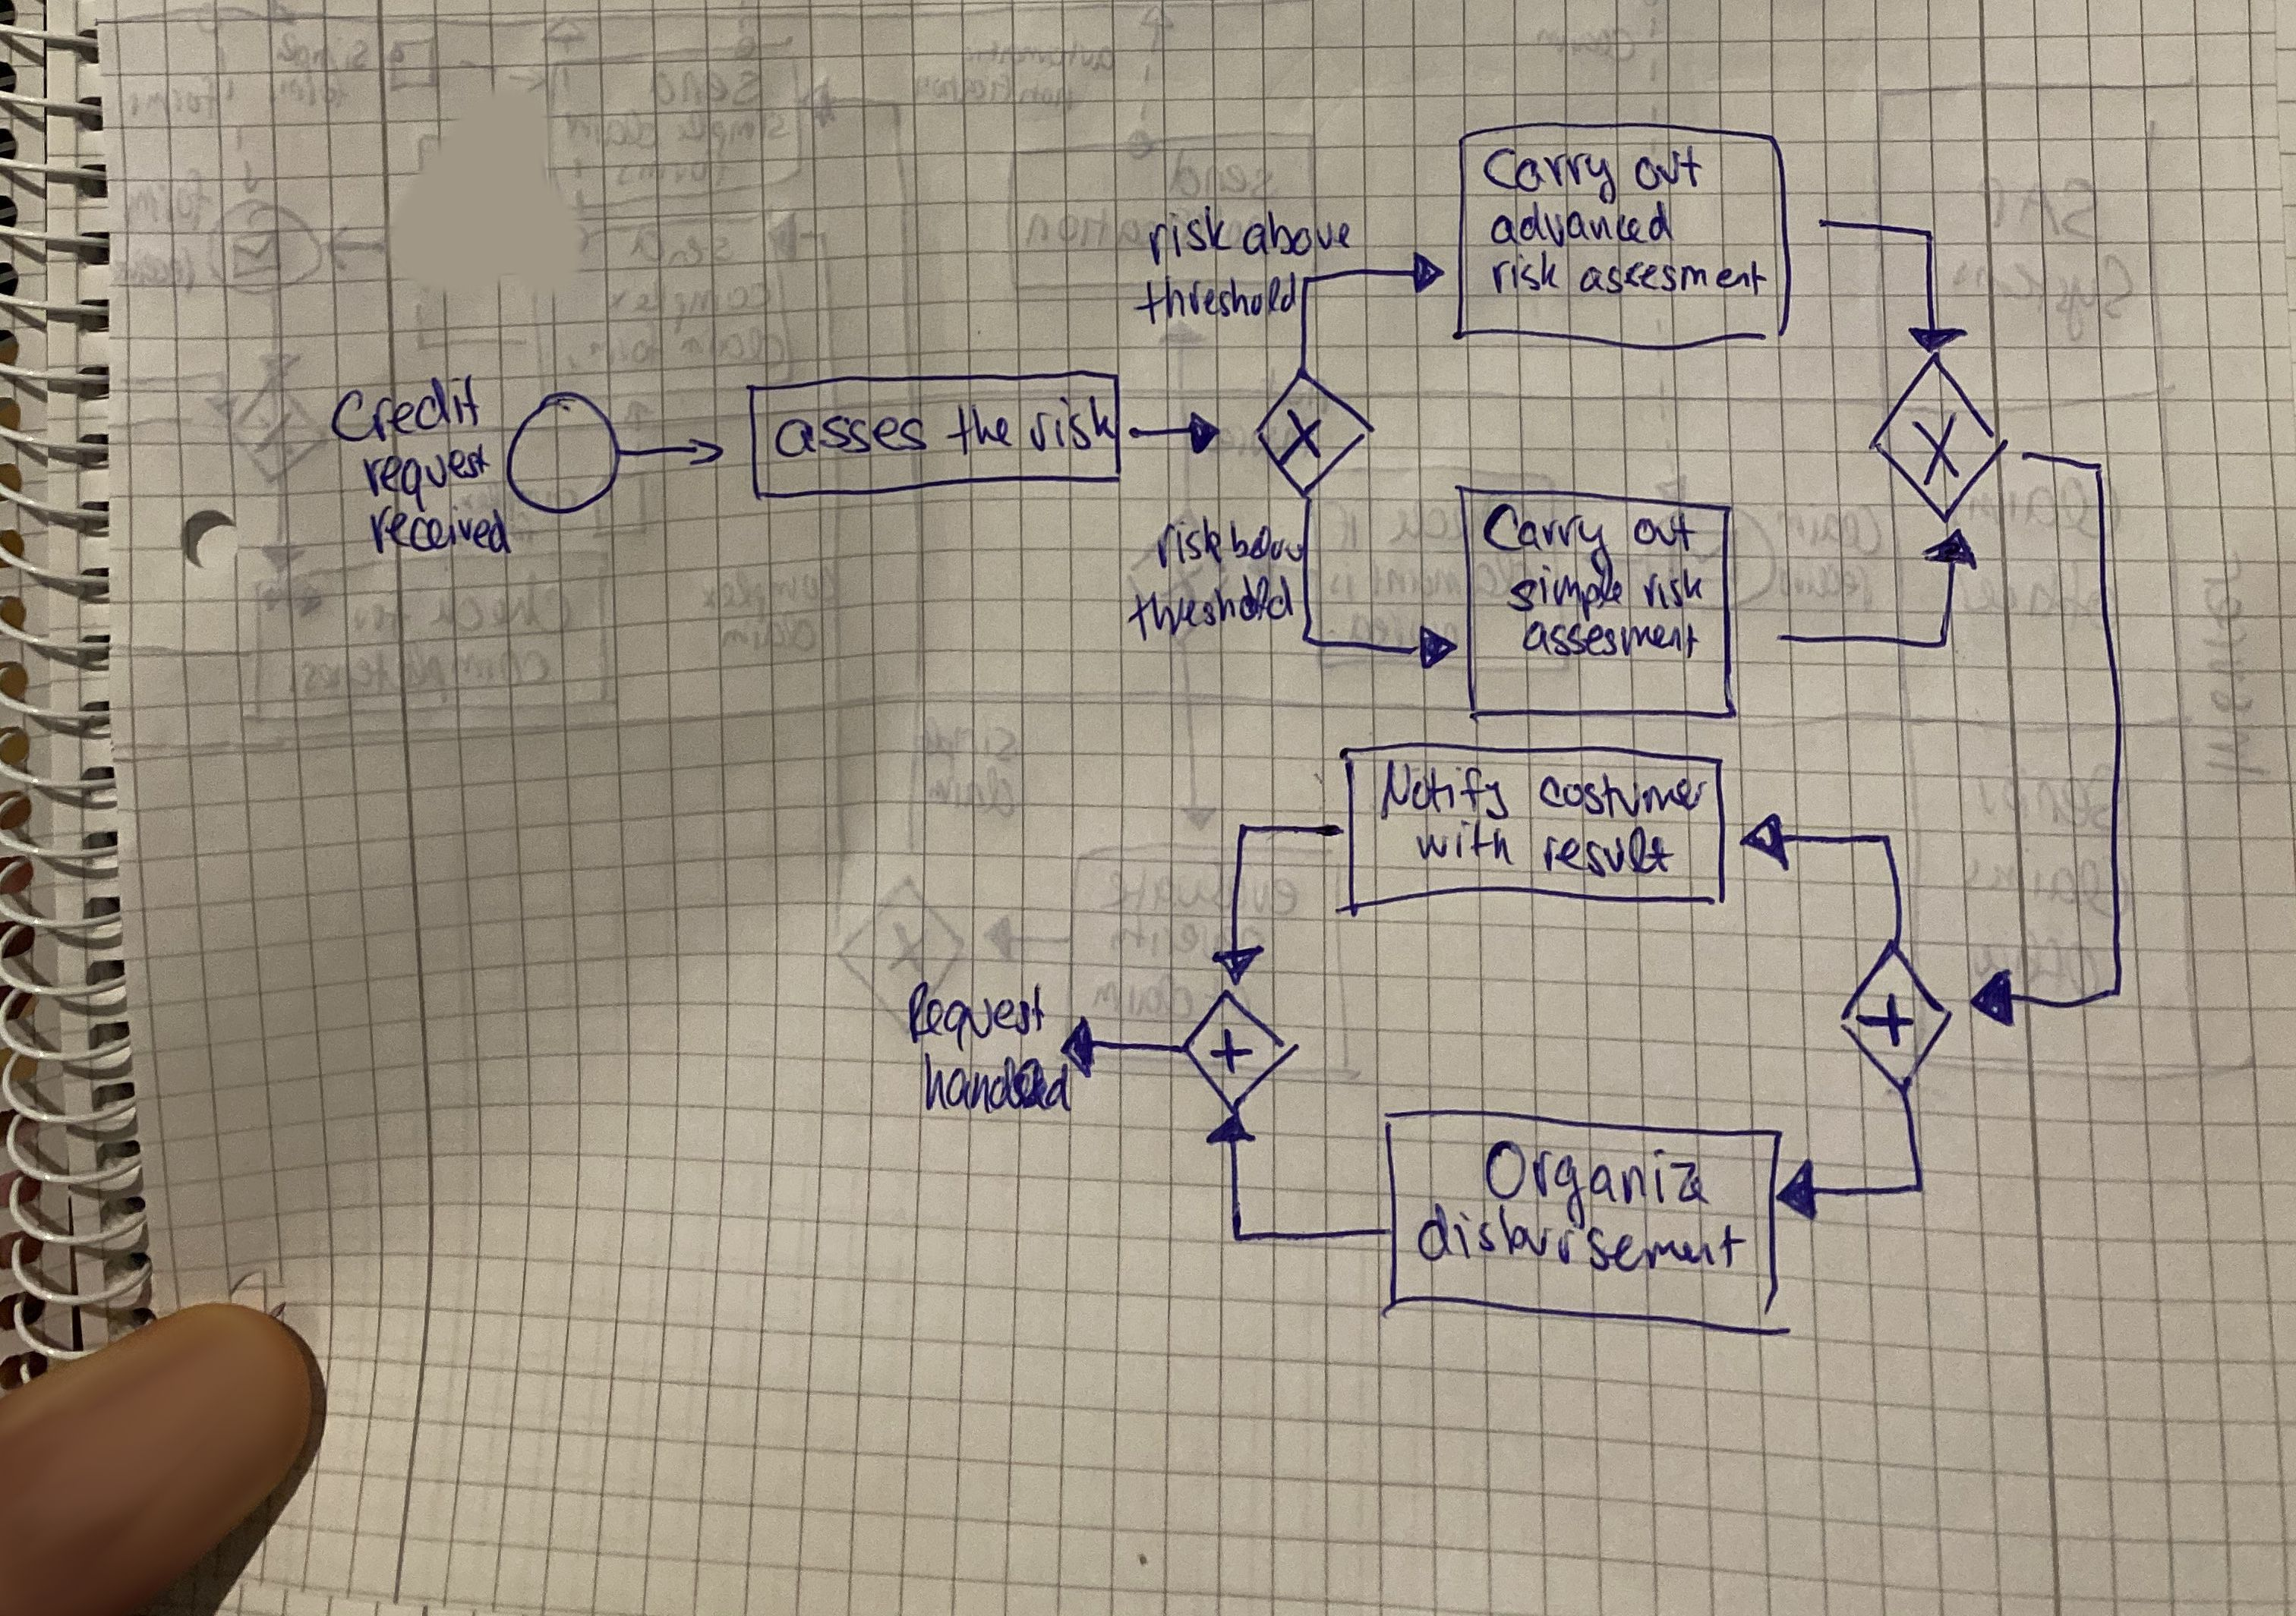Carry: (1476, 495, 1621, 584), (1476, 140, 1623, 212)
Notify: (1369, 752, 1516, 829)
Organize: (1474, 1130, 1719, 1240)
Request: (899, 972, 1054, 1060)
above: (1235, 203, 1357, 262)
advanced: (1483, 194, 1680, 255)
asses: (768, 407, 934, 463)
assesment: (1516, 610, 1707, 666), (1574, 252, 1771, 303)
below: (1222, 512, 1312, 568)
costumer: (1532, 764, 1714, 825)
credit: (322, 366, 486, 449)
disbursement: (1409, 1193, 1754, 1280)
handed: (915, 1042, 1079, 1121)
out: (1628, 138, 1710, 196), (1628, 505, 1703, 558)
received: (362, 497, 516, 560)
request: (353, 437, 495, 521)
result: (1535, 818, 1682, 883)
risk: (1021, 388, 1123, 460), (1142, 198, 1236, 271), (1151, 509, 1229, 575), (1485, 245, 1565, 301), (1637, 561, 1710, 616)
simple: (1499, 556, 1630, 628)
the: (937, 395, 1021, 463)
threshold: (1121, 567, 1299, 651), (1126, 266, 1305, 331)
with: (1408, 811, 1521, 873)
